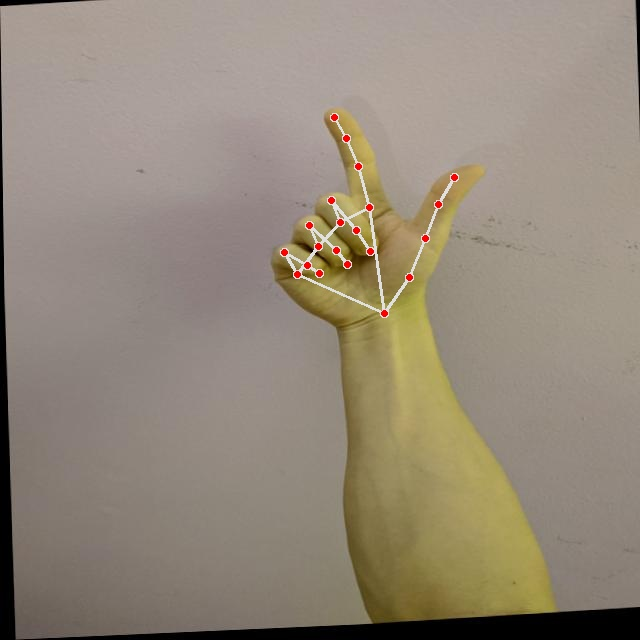L: (258, 98, 498, 336)
